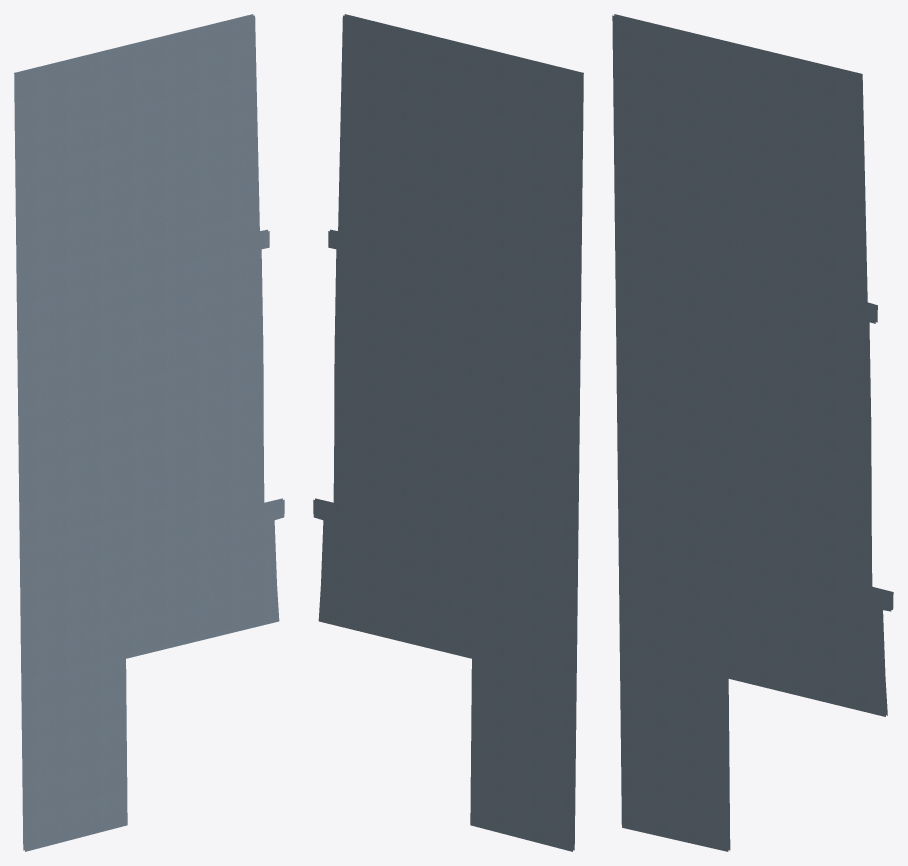
The model's file is floor_30.obj.
The picture shows the model from 3 angles, left to right: view 1: azimuth 30°, elevation 25°; view 2: azimuth 150°, elevation 25°; view 3: azimuth 330°, elevation 25°; orthographic projection. The views are drawn at different scales.
Visible parts, largest first — view 1: floor_30; view 2: floor_30; view 3: floor_30.
Part boxes in pixels (x1,y1,x2,y2): floor_30: (14,14,284,851); floor_30: (313,14,583,851); floor_30: (612,14,893,851).
Bounding box in the file's own units: 8.25 × 22.89 × 0.1.
1 material, 1 textured.
